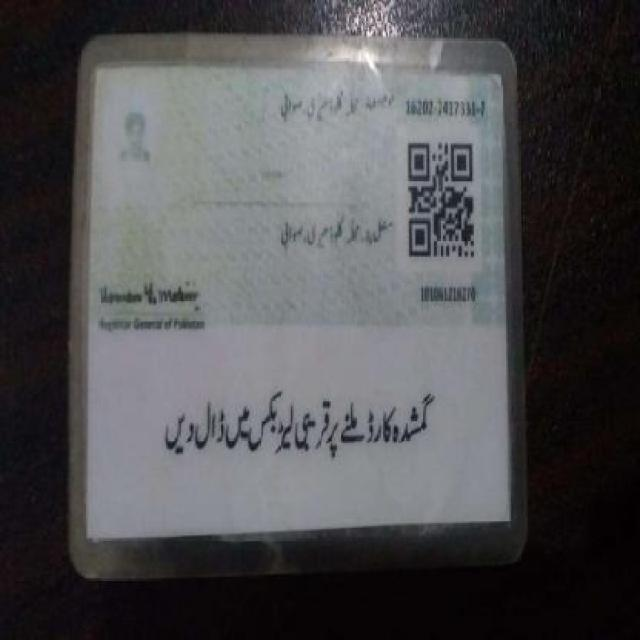Back: (74, 54, 512, 531)
